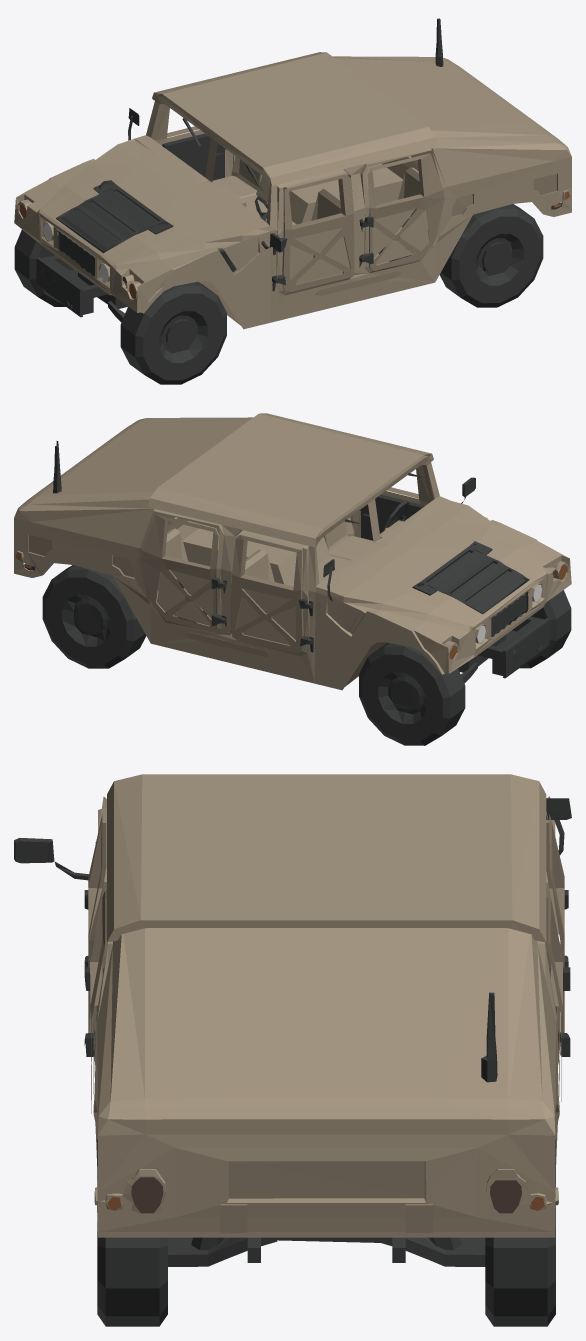
Rendered from humvee_B.glb.
The picture shows the model from 3 angles, top to bottom: view 1: azimuth 30°, elevation 25°; view 2: azimuth 150°, elevation 25°; view 3: azimuth 270°, elevation 25°; orthographic projection. The views are drawn at different scales.
Parts seen in each view (by area): view 1: world; view 2: world; view 3: world.
Part boxes in pixels (x1=…): world: x1=14, y1=18, x2=571, y2=384; world: x1=14, y1=413, x2=571, y2=745; world: x1=14, y1=774, x2=571, y2=1326.
Bounding box in the file's own units: 4.66 × 2 × 2.7.
Materials: 1 (1 with a texture image).
